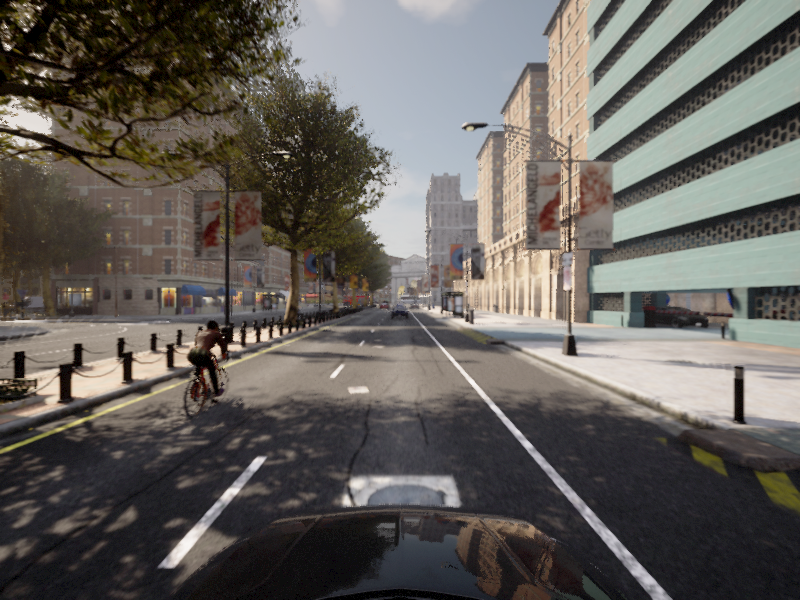vehicle: (1, 1, 799, 515), (1, 1, 799, 510), (166, 319, 242, 423), (391, 305, 408, 318), (292, 303, 303, 317)
